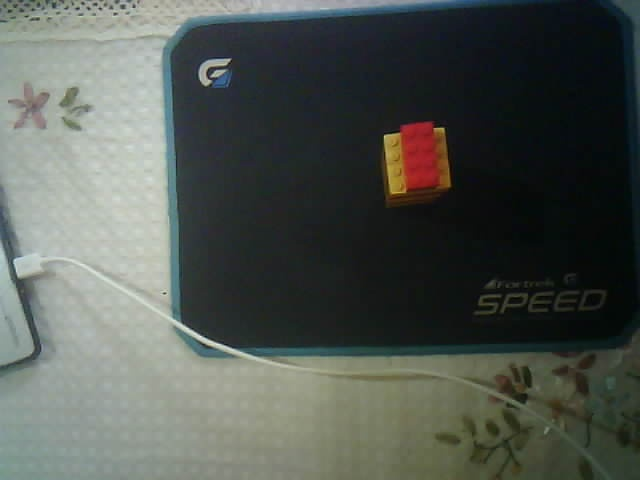lego: (380, 121, 453, 208)
